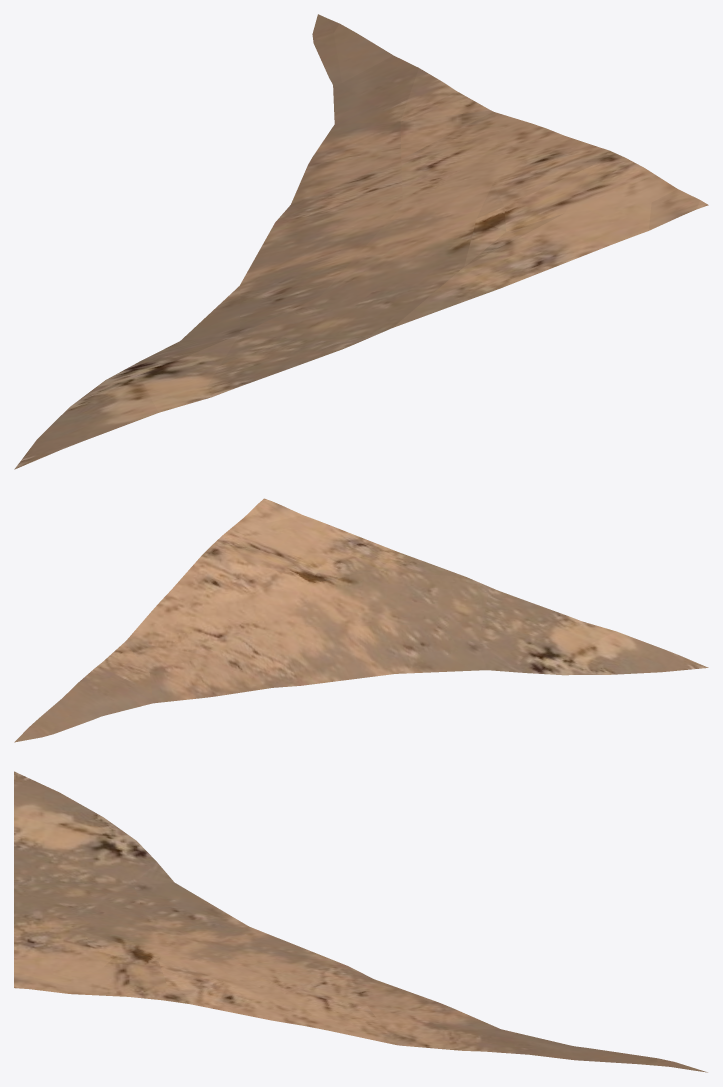
The picture shows the model from 3 angles, top to bottom: view 1: azimuth 30°, elevation 25°; view 2: azimuth 150°, elevation 25°; view 3: azimuth 270°, elevation 25°; orthographic projection. The views are drawn at different scales.
Bounding box in the file's own units: 0.6354 × 0.0831 × 0.6191.
1 material, 1 textured.
